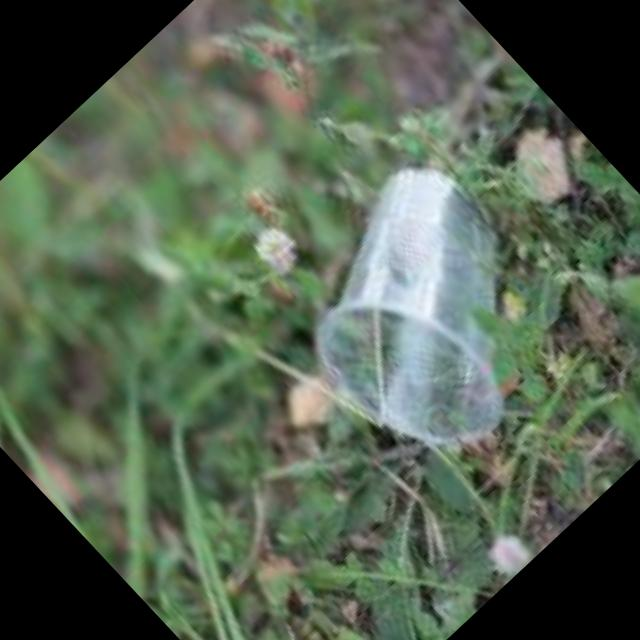GelasPlastik: (248, 142, 598, 492)
